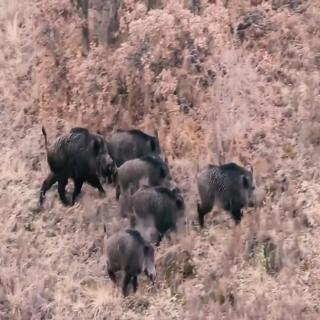Pig: (37, 115, 115, 206), (99, 227, 164, 299), (128, 175, 192, 245), (115, 150, 175, 213), (110, 120, 168, 166)
